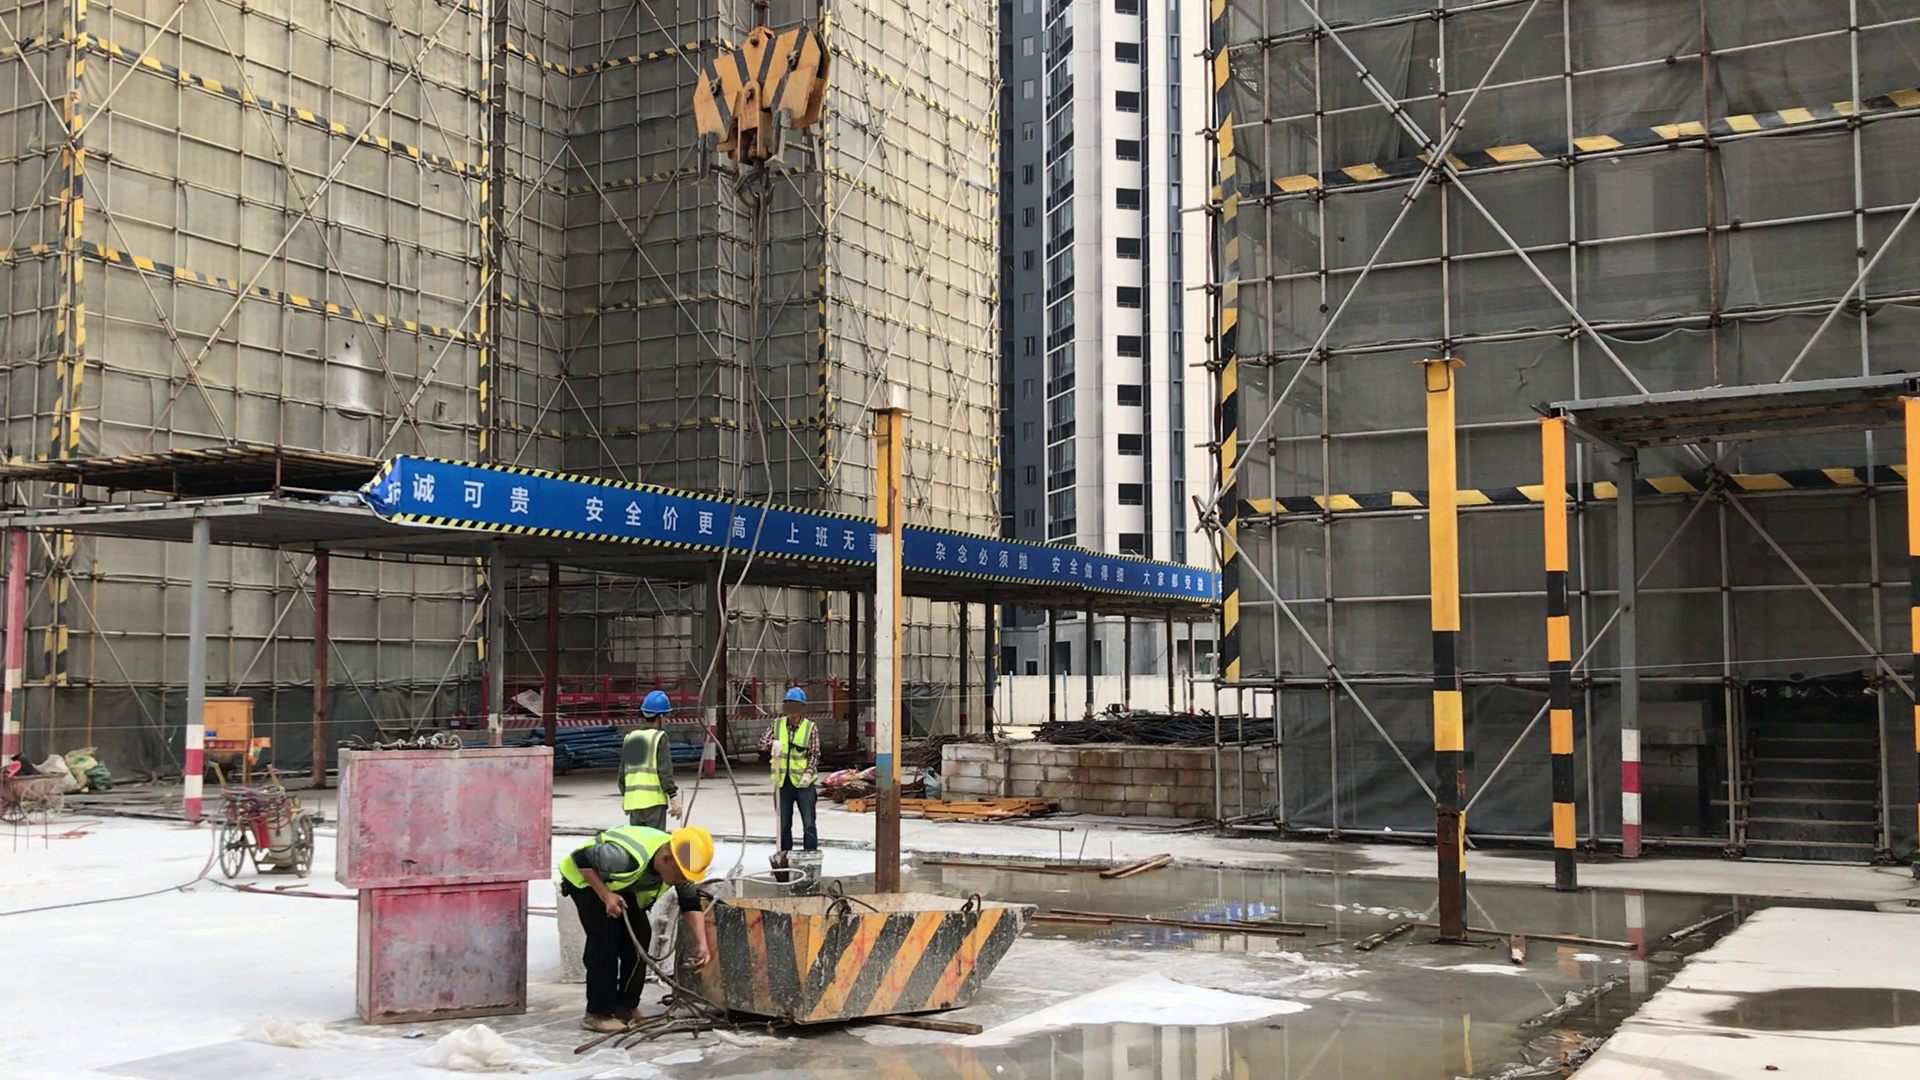ebox: (202, 689, 256, 784)
fence: (560, 675, 636, 725), (505, 676, 540, 730)
handcart: (207, 758, 315, 890), (1, 759, 66, 839)
helmet: (670, 824, 718, 879), (642, 689, 674, 715), (783, 686, 809, 706)
hook: (693, 22, 856, 213)
hopper: (710, 883, 1036, 1027)
person: (556, 815, 714, 1036), (759, 686, 829, 854), (623, 687, 689, 827)
slogan: (396, 457, 870, 574), (904, 524, 1224, 609)
vest: (558, 821, 673, 913), (766, 715, 819, 791), (624, 728, 671, 810)
